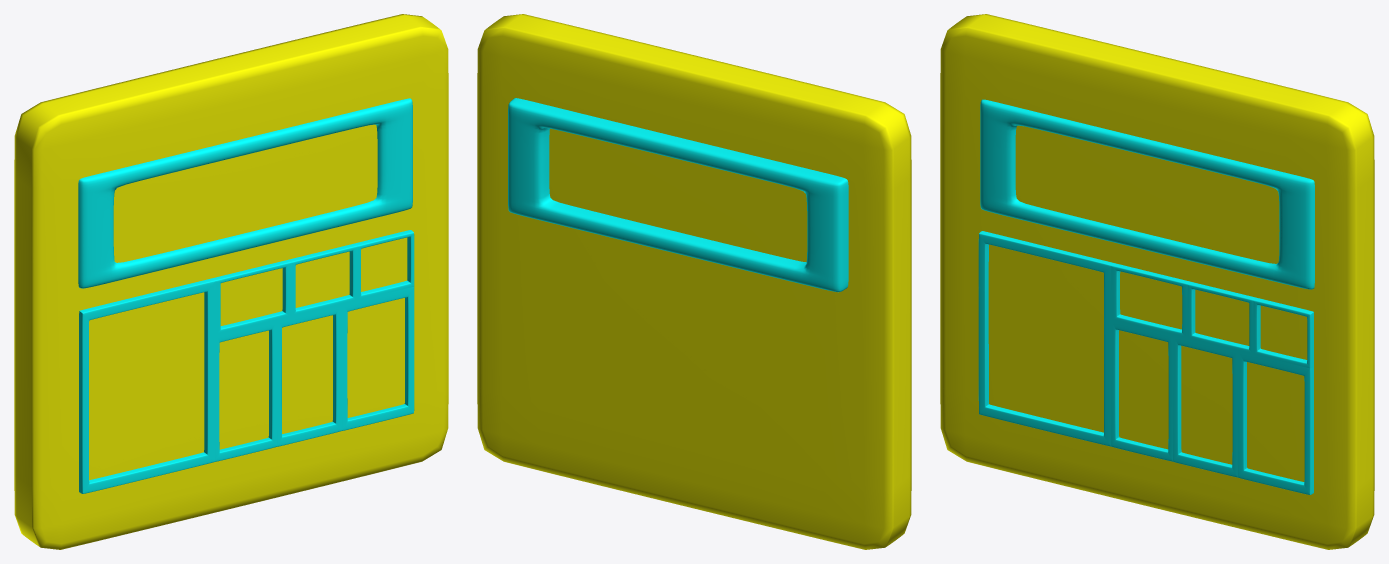
The picture shows the model from 3 angles, left to right: view 1: azimuth 30°, elevation 25°; view 2: azimuth 150°, elevation 25°; view 3: azimuth 330°, elevation 25°; orthographic projection.
Parts seen in each view (by area): view 1: polySurface1030; view 2: polySurface1030; view 3: polySurface1030.
Part boxes in pixels (left/top/right/bottom): polySurface1030: left=14, top=14, right=448, bottom=549; polySurface1030: left=477, top=14, right=911, bottom=549; polySurface1030: left=940, top=14, right=1374, bottom=549.
Bounding box in the file's own units: 0.9994 × 0.9994 × 0.1498.
